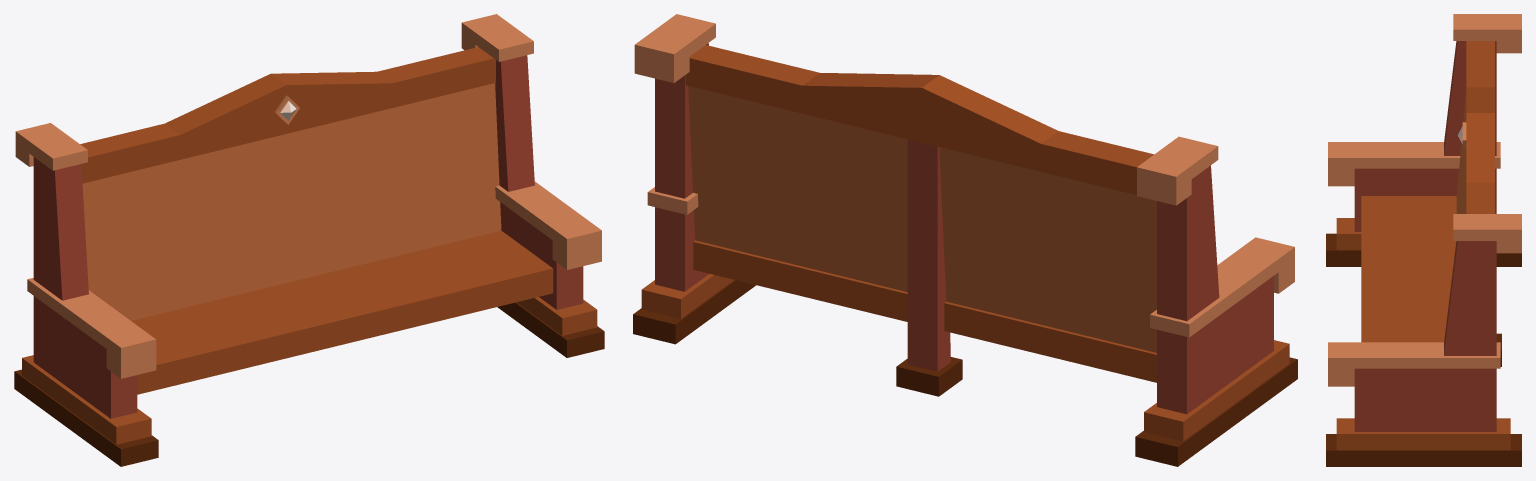
File: Bench 01.fbx
The picture shows the model from 3 angles, left to right: view 1: azimuth 30°, elevation 25°; view 2: azimuth 150°, elevation 25°; view 3: azimuth 270°, elevation 25°; orthographic projection. The views are drawn at different scales.
Parts seen in each view (by area): view 1: Bench_01; view 2: Bench_01; view 3: Bench_01.
Boxes of the visible parts, x1,y1,x2,y2 form: Bench_01: [14, 14, 604, 466]; Bench_01: [633, 14, 1297, 466]; Bench_01: [1326, 14, 1521, 466].
Bounding box in the file's own units: 305 × 161 × 116.
